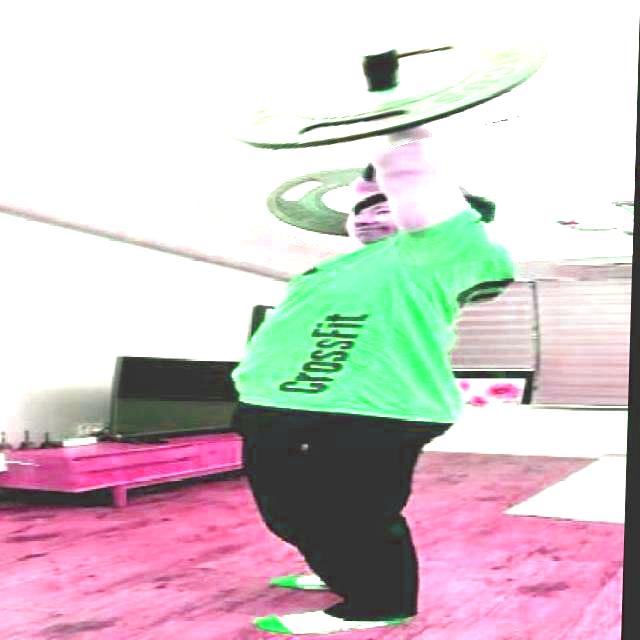barbell: (192, 15, 587, 168)
